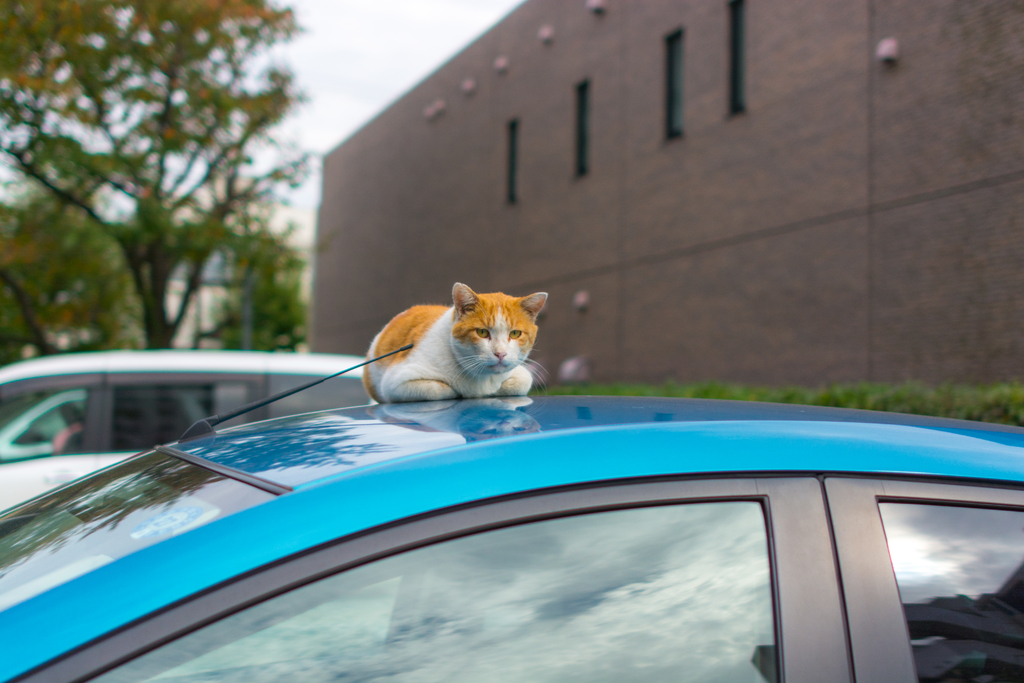Car: (3, 339, 1023, 682), (3, 350, 377, 509), (0, 390, 206, 458)
